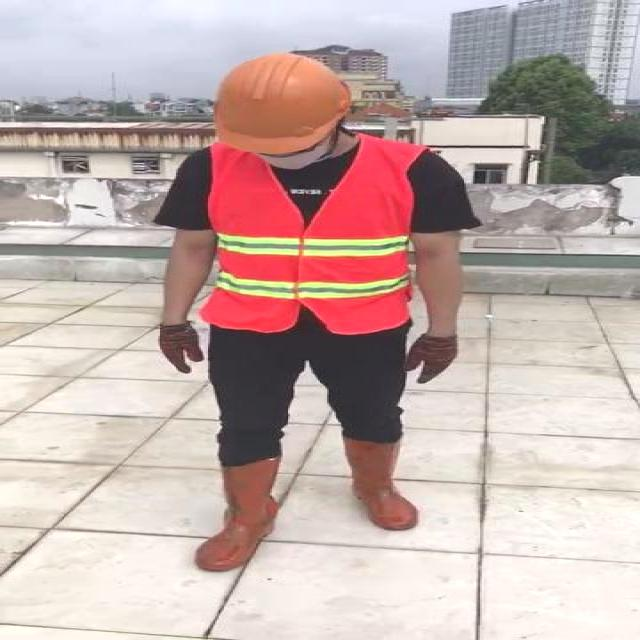boots: (194, 453, 284, 571), (341, 439, 418, 530)
hand_glove: (404, 334, 461, 384), (156, 323, 202, 373)
head_helmet: (215, 49, 356, 155)
person: (148, 52, 492, 582)
vest: (203, 138, 421, 334)
